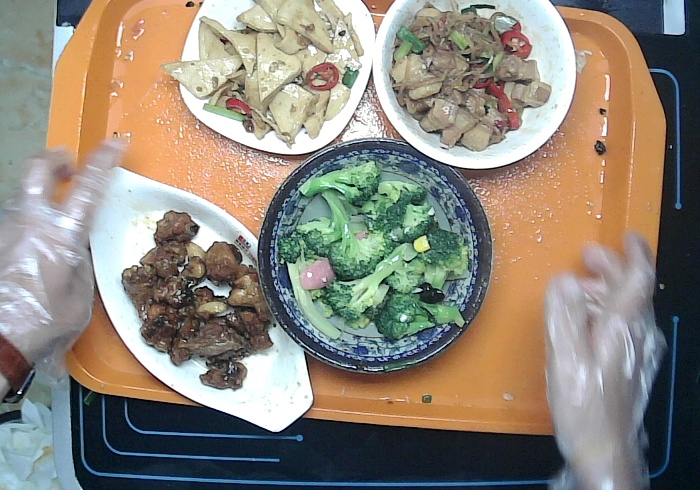ZNLD-Qing_Hua_Wan: (255, 136, 492, 374)
ZNLD-Si_Fang_Wan: (176, 1, 376, 156)
ZNLD-Tang_Wan: (370, 1, 578, 171)
ZNLD-Yu_Pan: (81, 164, 314, 434)
